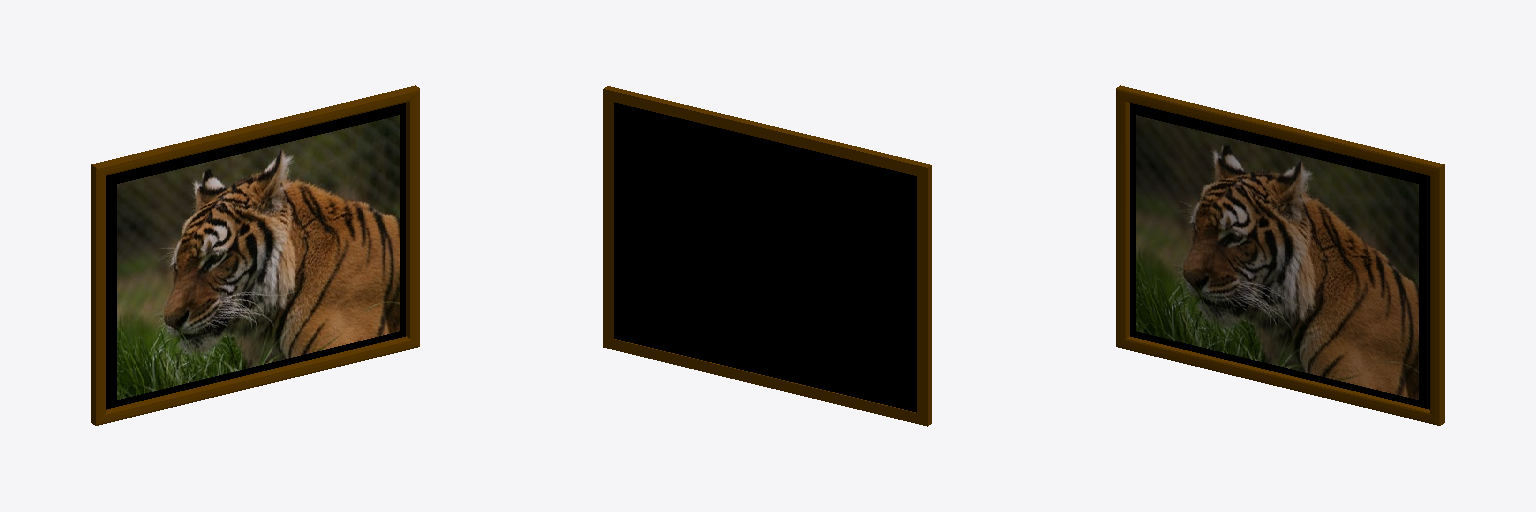
3 views of the same model, side by side, from view 1: azimuth 30°, elevation 25°; view 2: azimuth 150°, elevation 25°; view 3: azimuth 330°, elevation 25° (orthographic).
Parts seen in each view (by area): view 1: Photo_Cube_Material_Tiger.jpg, WoodFrame_Cylinder_Wood.002, Frame_Black_Material.013; view 2: Frame_Black_Material.013, WoodFrame_Cylinder_Wood.002; view 3: Photo_Cube_Material_Tiger.jpg, WoodFrame_Cylinder_Wood.002, Frame_Black_Material.013.
Part boxes in pixels (x1,y1,x2,y2): Photo_Cube_Material_Tiger.jpg: (117,115,399,399); WoodFrame_Cylinder_Wood.002: (91,85,419,425); Frame_Black_Material.013: (106,103,405,409); Frame_Black_Material.013: (614,102,916,412); WoodFrame_Cylinder_Wood.002: (603,86,931,426); Photo_Cube_Material_Tiger.jpg: (1136,115,1418,399); WoodFrame_Cylinder_Wood.002: (1116,85,1444,425); Frame_Black_Material.013: (1130,103,1429,409).
Bounding box in the file's own units: 62.8 × 47.86 × 1.6.
Materials: 3 (1 with a texture image).